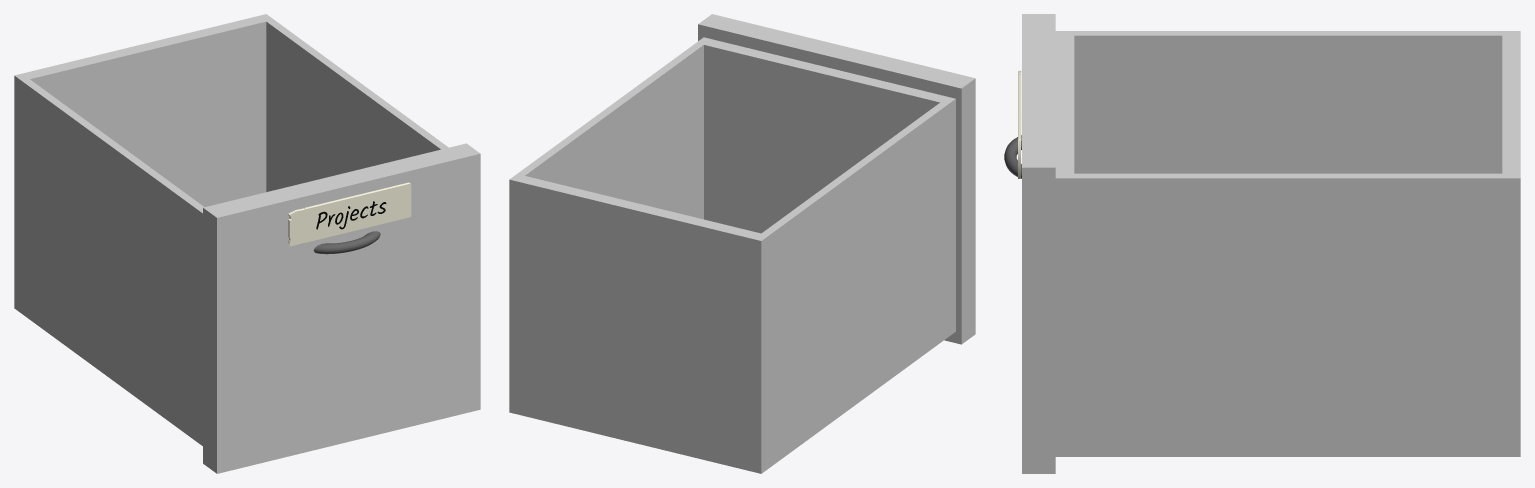
File: Drawer.glb
3 renders of one model, left to right at view 1: azimuth 30°, elevation 25°; view 2: azimuth 150°, elevation 25°; view 3: azimuth 270°, elevation 25°, orthographic. The views are drawn at different scales.
Visible parts, largest first — view 1: Cube.006, Plane.017, Torus; view 2: Cube.006; view 3: Cube.006.
Part boxes in pixels (x1,y1,x2,y2): Cube.006: (14,14,480,473); Plane.017: (288,182,411,246); Torus: (313,231,380,254); Cube.006: (509,14,975,473); Cube.006: (1022,14,1520,473).
Bounding box in the file's own units: 0.6969 × 0.6469 × 0.9892.
